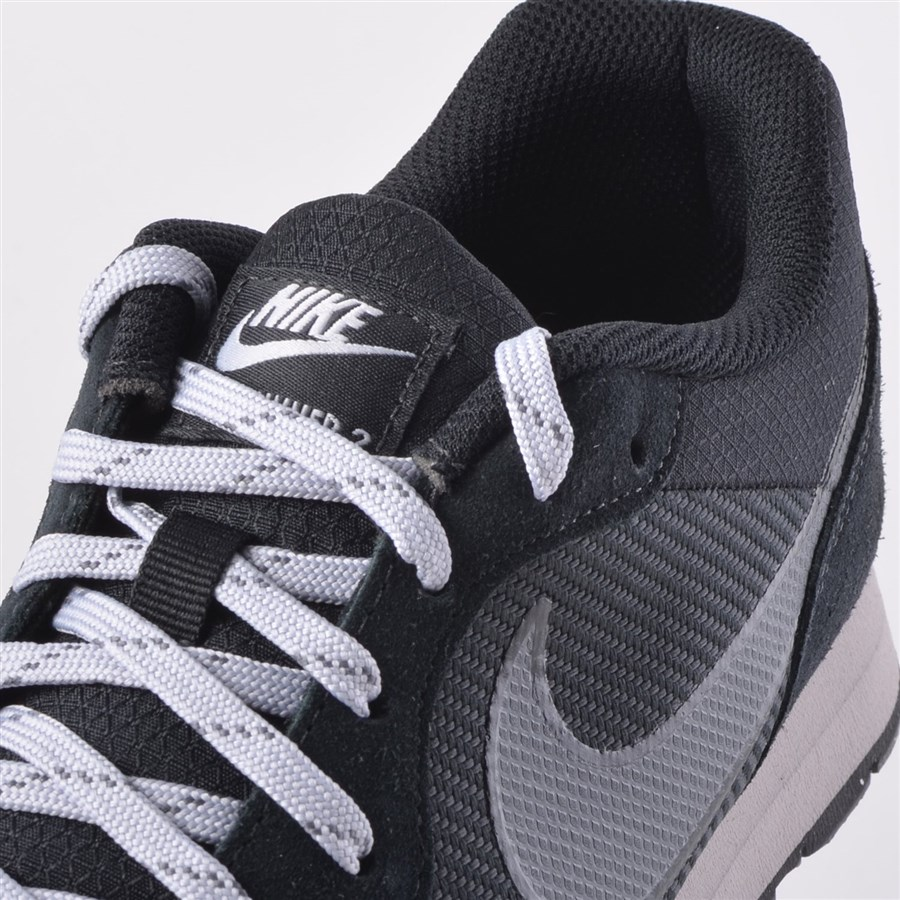nike: (480, 476, 829, 900), (205, 319, 396, 376)
